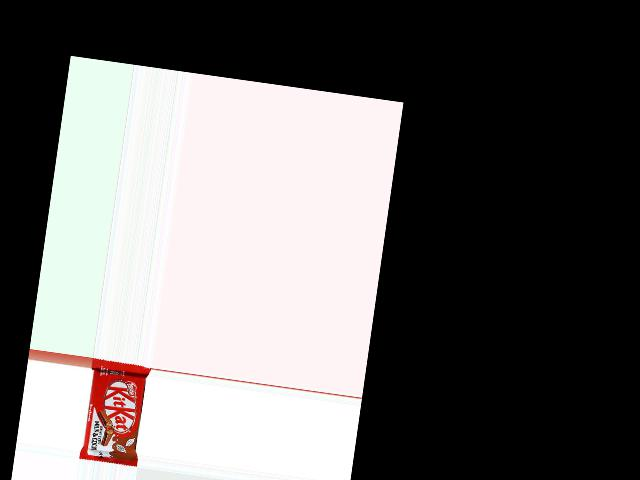chocolate: (78, 358, 151, 467)
